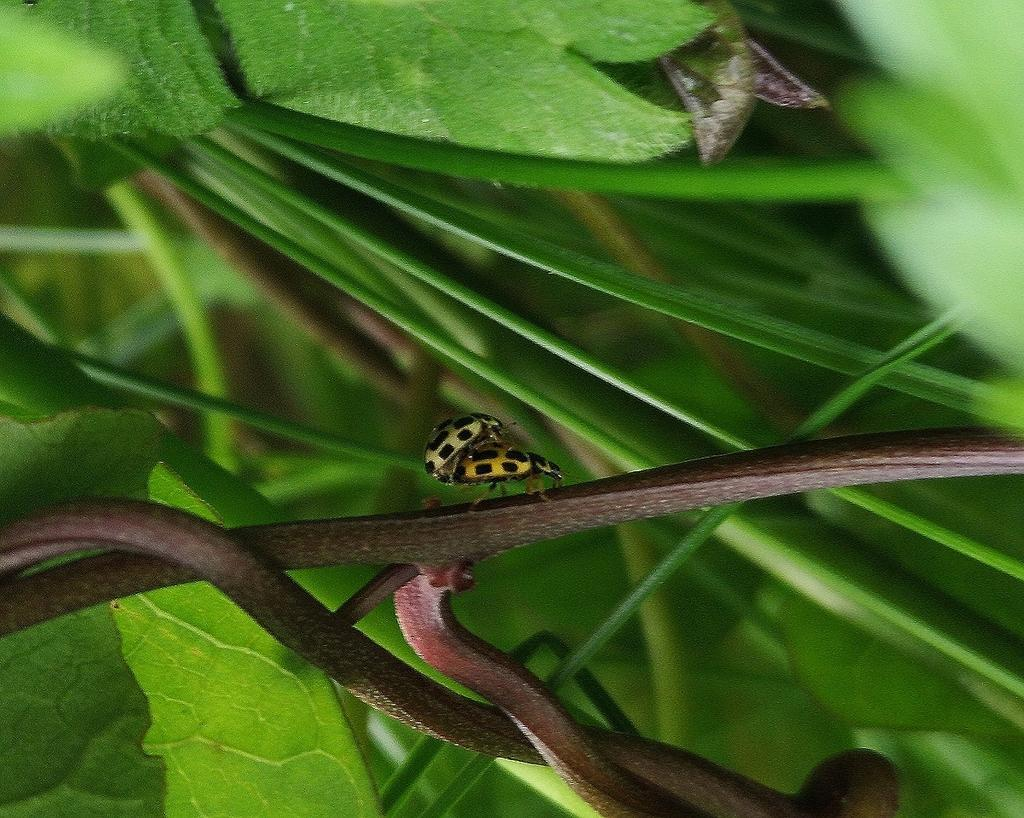ladybug: (452, 440, 567, 510), (422, 411, 521, 484)
